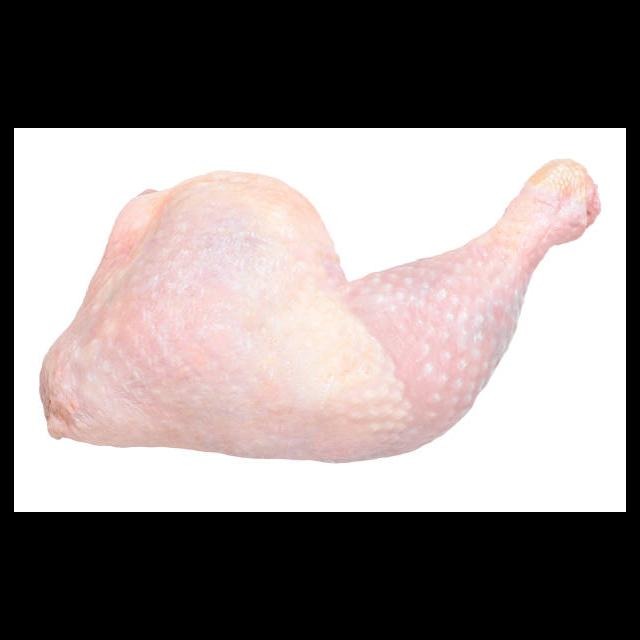chicken: (39, 158, 602, 464)
